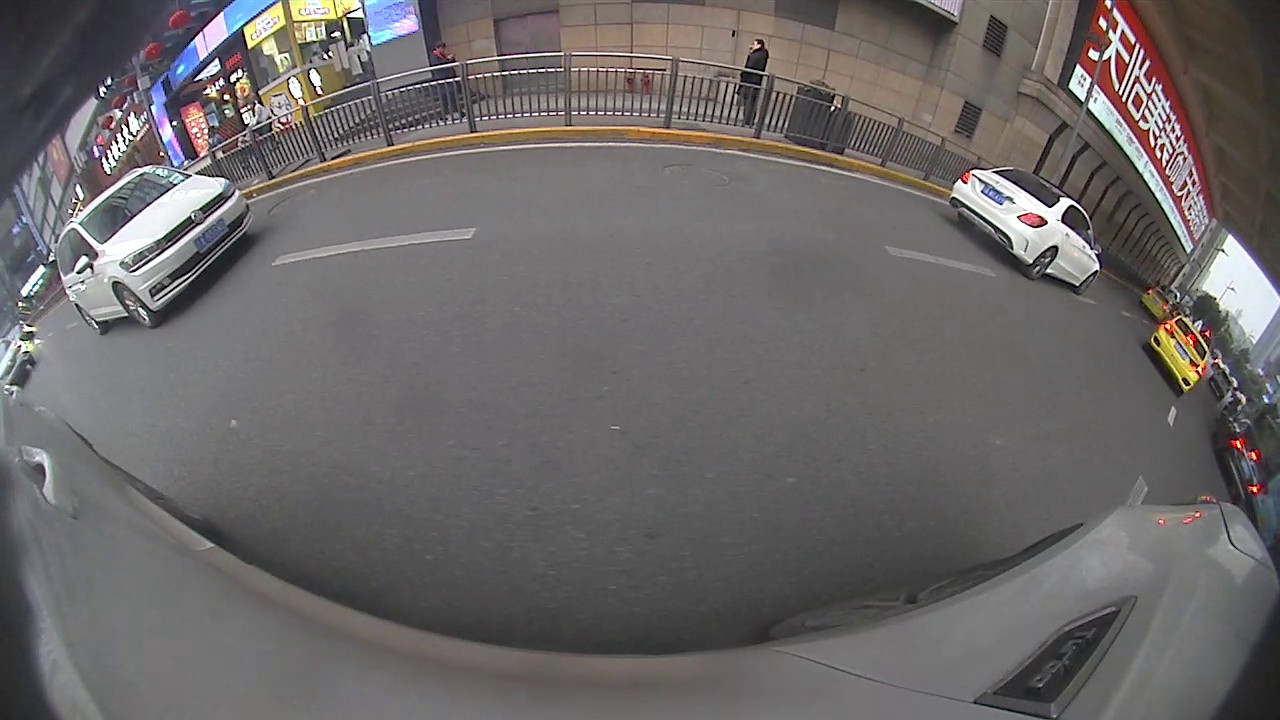car: (52, 164, 254, 335), (948, 164, 1103, 297), (1144, 313, 1213, 398), (1212, 413, 1268, 504)
front: (112, 284, 154, 328), (1076, 275, 1097, 296)
person: (733, 36, 770, 123), (425, 40, 460, 115)
rear: (1026, 246, 1059, 282), (74, 306, 105, 337)
